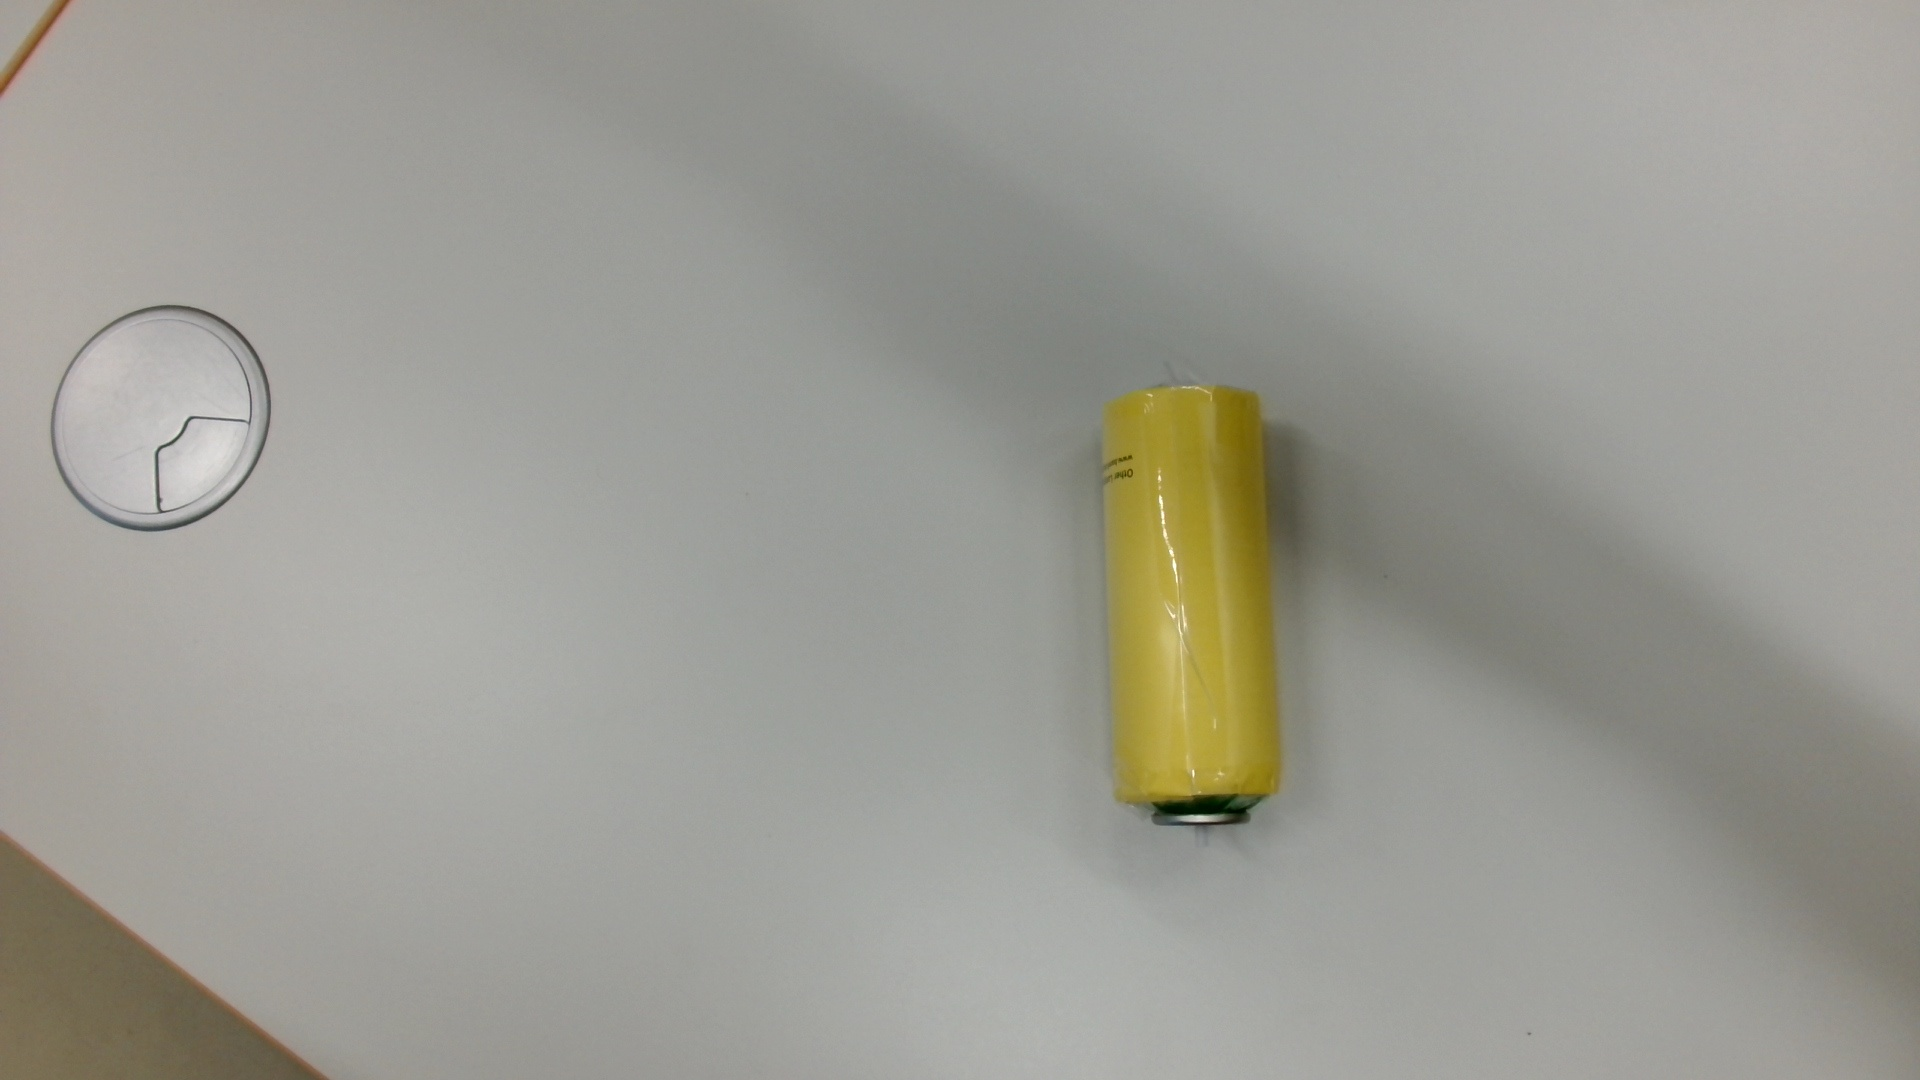Cylinder: (1084, 364, 1302, 858)
